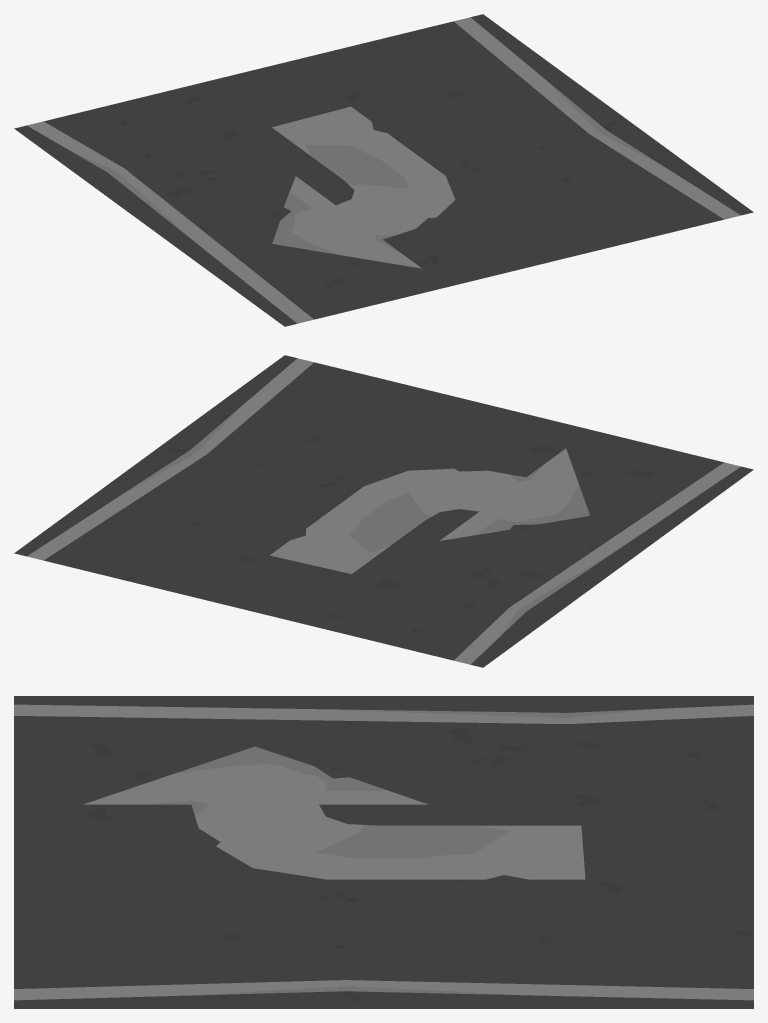
Rendered from SM_Env_Road_Arrow_01.glb.
3 renders of one model, top to bottom at view 1: azimuth 30°, elevation 25°; view 2: azimuth 150°, elevation 25°; view 3: azimuth 270°, elevation 25°, orthographic. The views are drawn at different scales.
Parts seen in each view (by area): view 1: SM_Env_Road_Arrow_01; view 2: SM_Env_Road_Arrow_01; view 3: SM_Env_Road_Arrow_01.
Boxes of the visible parts, bbox=[...] form: SM_Env_Road_Arrow_01: bbox=[14, 14, 753, 326]; SM_Env_Road_Arrow_01: bbox=[14, 355, 753, 667]; SM_Env_Road_Arrow_01: bbox=[14, 696, 753, 1008].
Size of the model in its own units: 5 by 3.69e-07 by 5.
1 material, 1 textured.
